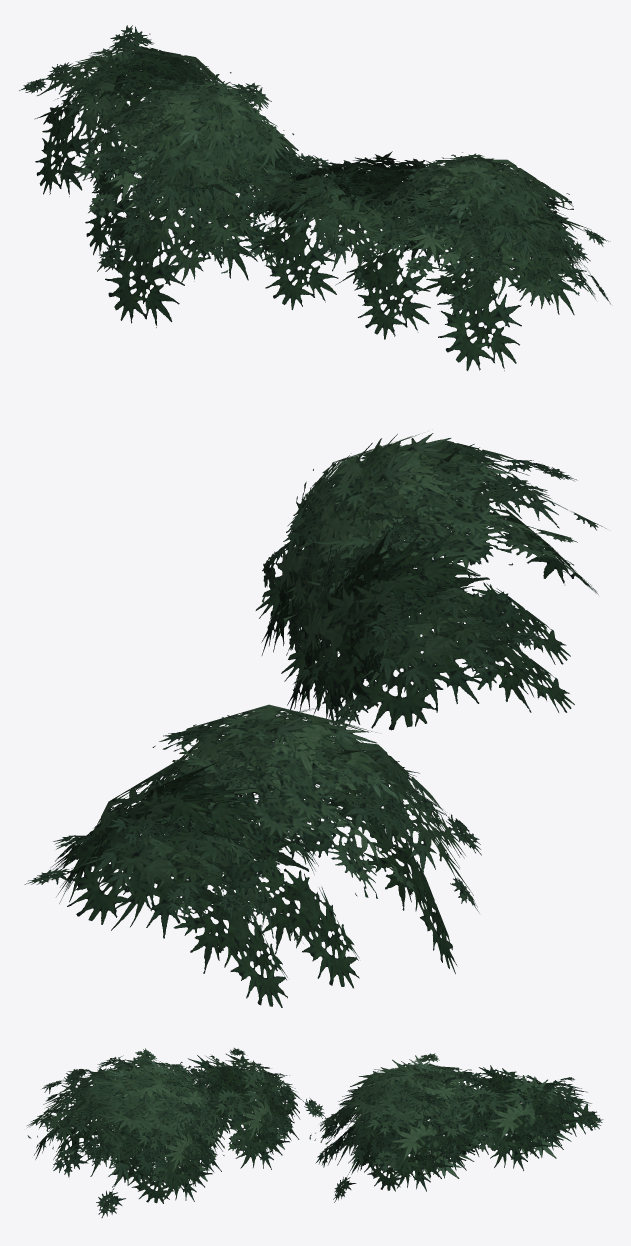
Rendered from Area_14_37.fbx.
3 renders of one model, top to bottom at view 1: azimuth 30°, elevation 25°; view 2: azimuth 150°, elevation 25°; view 3: azimuth 270°, elevation 25°, orthographic. The views are drawn at different scales.
Visible parts, largest first — view 1: Area_14_37; view 2: Area_14_37; view 3: Area_14_37.
Part boxes in pixels (bbox=[...]): Area_14_37: bbox=[19, 25, 610, 370]; Area_14_37: bbox=[24, 433, 606, 1007]; Area_14_37: bbox=[27, 1048, 603, 1217].
Size of the model in its own units: 386 by 281 by 787.
